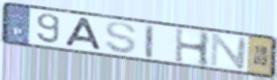9: (36, 13, 62, 44)
A: (64, 16, 104, 52)
H: (172, 26, 212, 68)
I: (144, 23, 155, 60)
N: (209, 32, 250, 70)
S: (103, 20, 139, 55)
